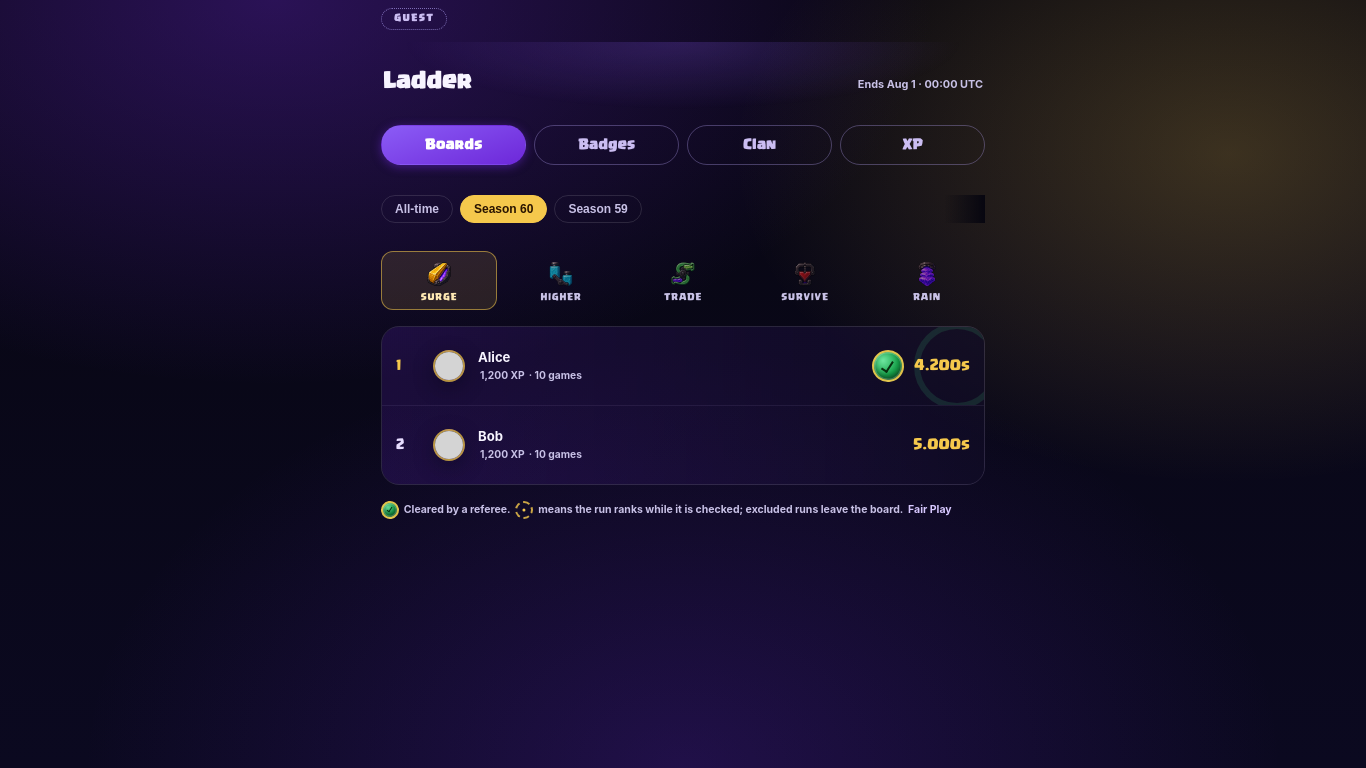
Test: Leaderboards › switches the mode tab, re-queries, and re-renders rows for the new mode
What coordinates should you click on to do the following:
click the button "HIGHER"
I would click on:
 (561, 280)
Its box is [503,251,619,310].
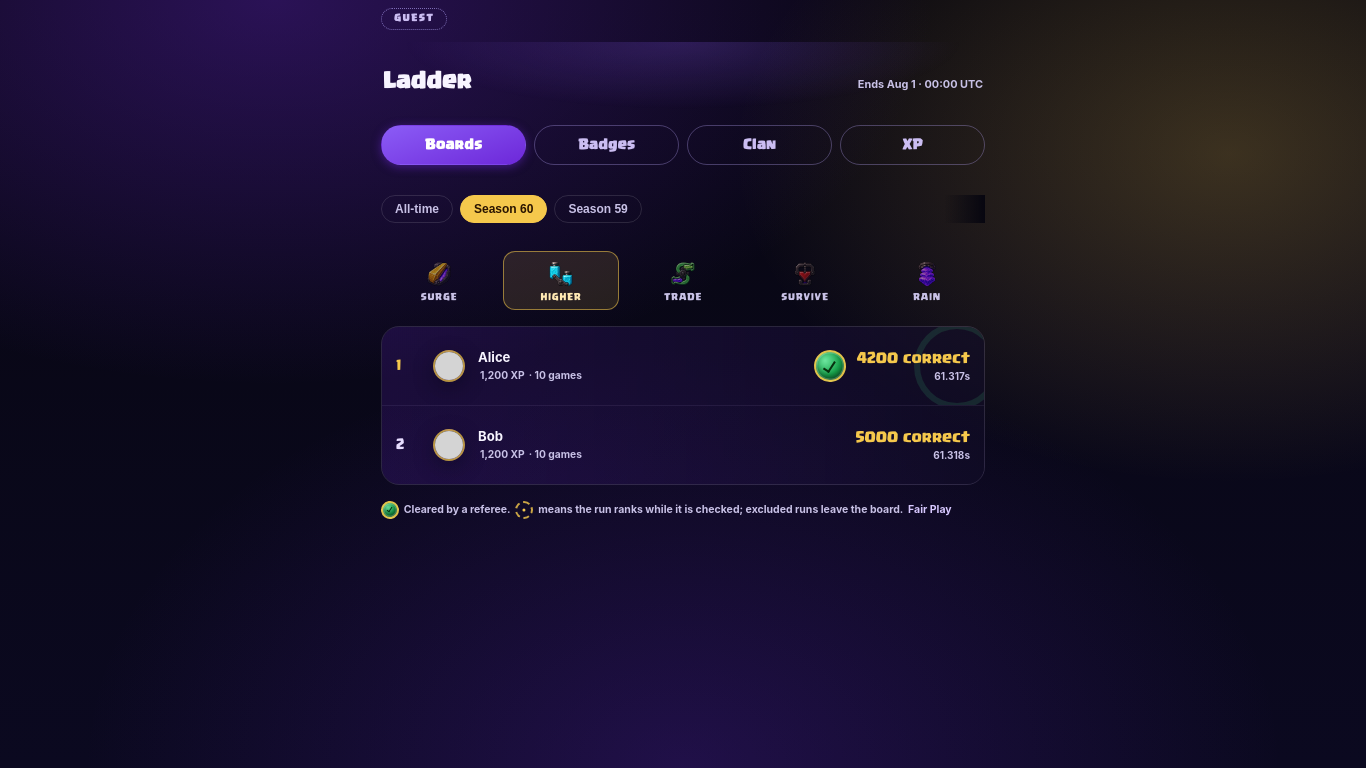
Check: the text "correct" is shown, box [856,351,970,366]
Check: the text "61.317s" is shown, box [934,370,970,382]
Check: the text "4.200s" is gone
